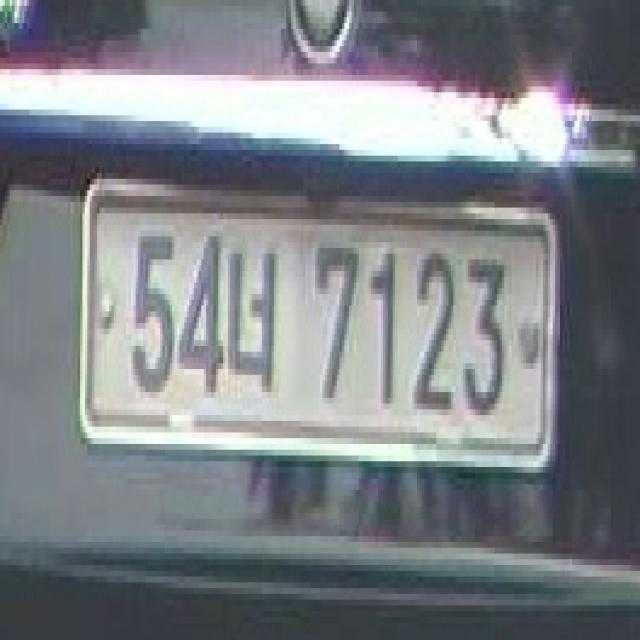1: (366, 225, 405, 409)
2: (405, 242, 458, 438)
3: (463, 248, 512, 438)
4: (172, 202, 233, 415)
5: (128, 196, 177, 398)
7: (308, 242, 361, 392)
license_plate: (80, 173, 558, 484)
neo: (218, 236, 284, 409)
